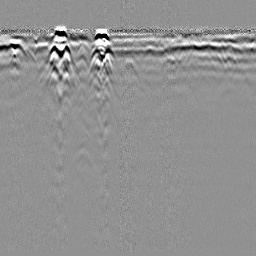cavity: (121, 55, 139, 74)
